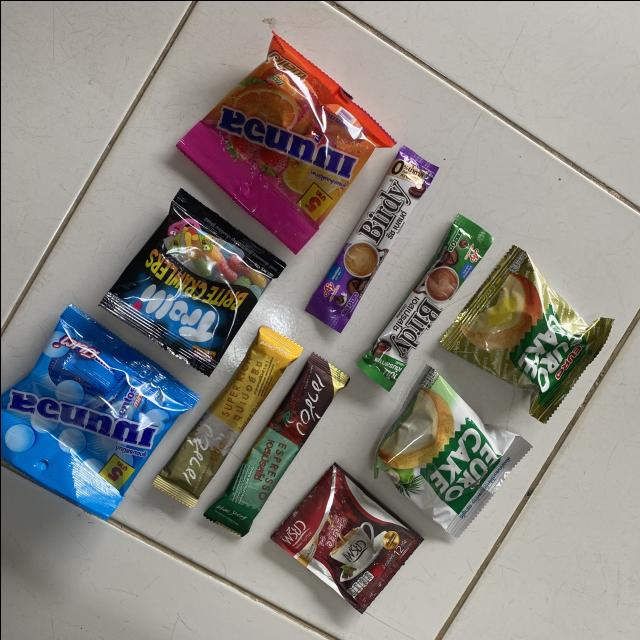plastik: (176, 33, 393, 252), (0, 306, 198, 518), (100, 190, 283, 374), (441, 245, 612, 422), (374, 365, 531, 536), (154, 325, 300, 506), (203, 353, 348, 534), (306, 146, 437, 330), (357, 212, 492, 389), (270, 463, 422, 612)
